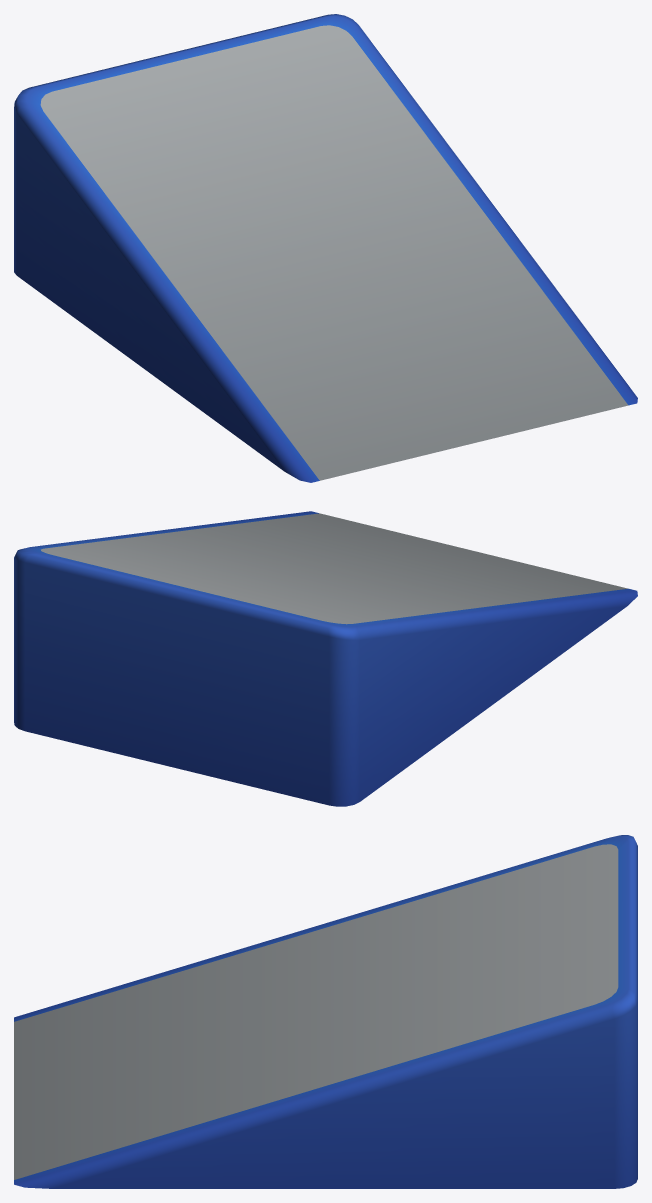
File: Trampoline_01.fbx
3 renders of one model, top to bottom at view 1: azimuth 30°, elevation 25°; view 2: azimuth 150°, elevation 25°; view 3: azimuth 270°, elevation 25°, orthographic. The views are drawn at different scales.
Parts seen in each view (by area): view 1: Trampoline_01; view 2: Trampoline_01; view 3: Trampoline_01.
Boxes of the visible parts, x1,y1,x2,y2 form: Trampoline_01: (14,14,637,482); Trampoline_01: (14,511,637,806); Trampoline_01: (14,835,637,1188).
Bounding box in the file's own units: 400 × 600 × 197.
